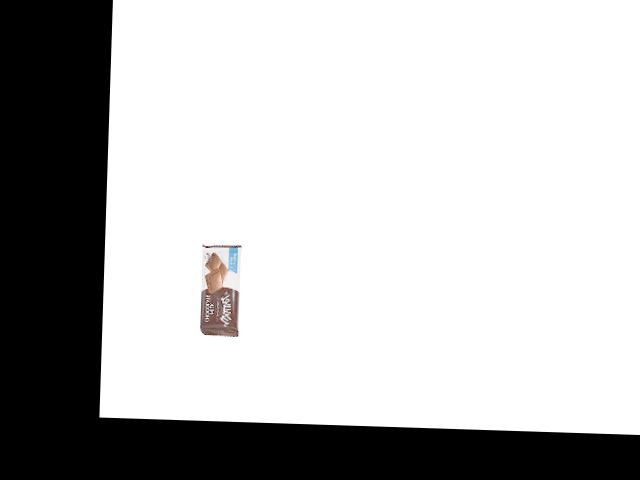chocolate: (197, 243, 243, 335)
